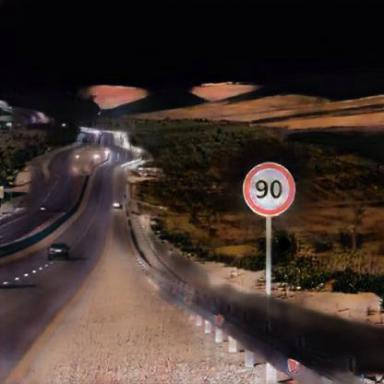Speed_limit_90: (242, 161, 295, 218)
